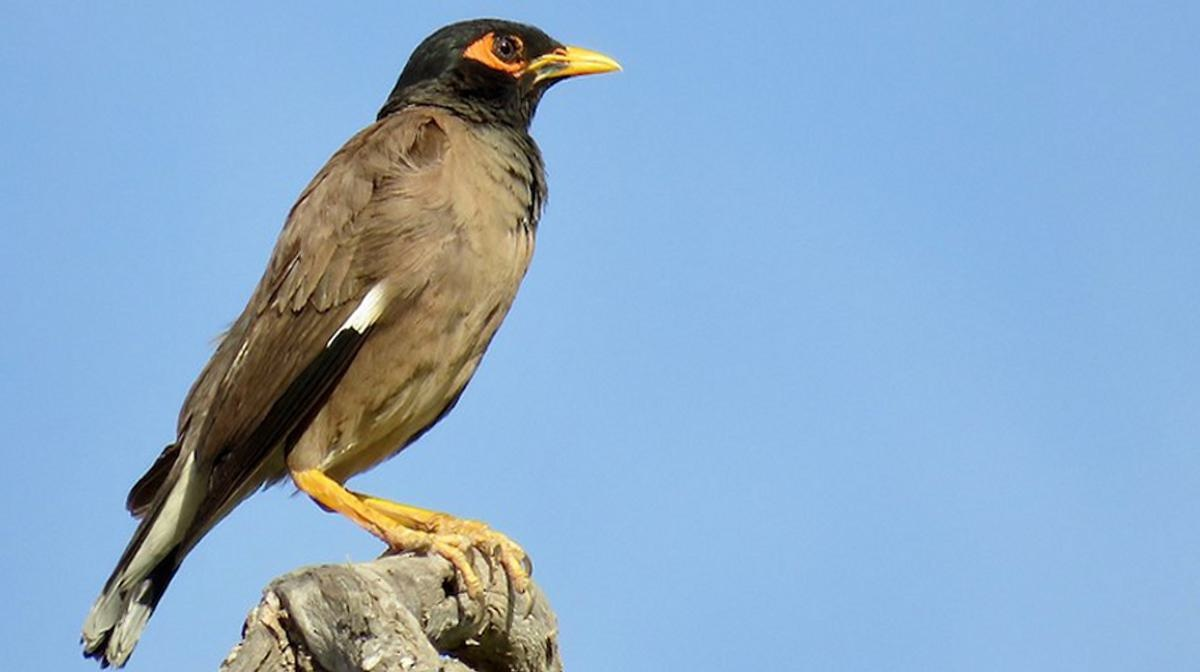myna: (140, 22, 620, 581)
